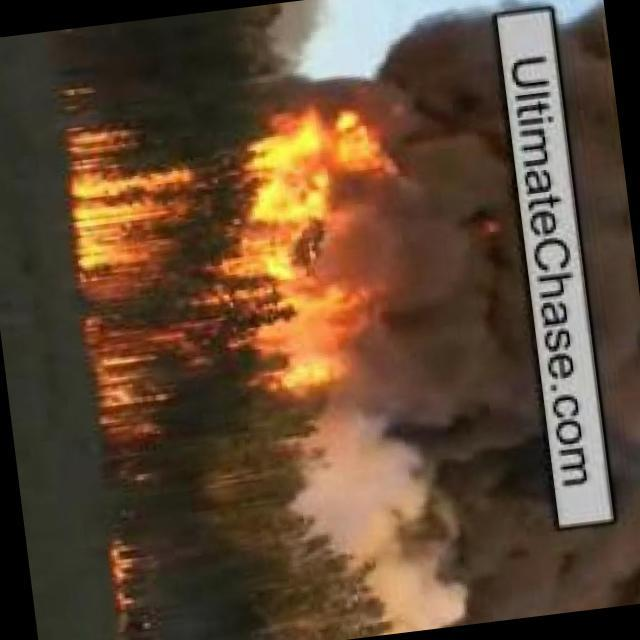Fire: (68, 83, 418, 460), (106, 533, 147, 623)
